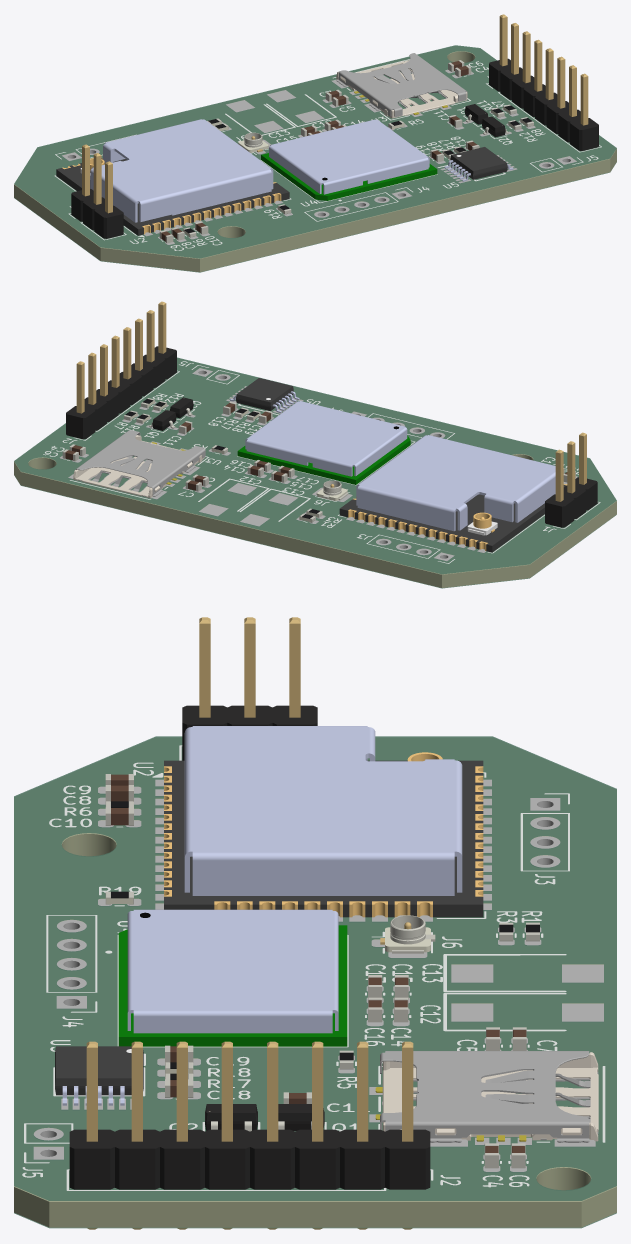
The model's file is Scouter_RFBoard.glb.
3 renders of one model, top to bottom at view 1: azimuth 30°, elevation 25°; view 2: azimuth 150°, elevation 25°; view 3: azimuth 270°, elevation 25°, orthographic. The views are drawn at different scales.
Visible parts, largest first — view 1: =>[0:1:1:27], =>[0:1:1:25], =>[0:1:1:9], =>[0:1:1:17], =>[0:1:1:13], =>[0:1:1:5], =>[0:1:1:22], =>[0:1:1:23], =>[0:1:1:19], =>[0:1:1:21], =>[0:1:1:26], =>[0:1:1:15] (+1 smaller); view 2: =>[0:1:1:27], =>[0:1:1:25], =>[0:1:1:9], =>[0:1:1:17], =>[0:1:1:13], =>[0:1:1:5], =>[0:1:1:22], =>[0:1:1:23], =>[0:1:1:19], =>[0:1:1:21], =>[0:1:1:26], =>[0:1:1:15]; view 3: =>[0:1:1:27], =>[0:1:1:25], =>[0:1:1:9], =>[0:1:1:17], =>[0:1:1:13], =>[0:1:1:5], =>[0:1:1:22], =>[0:1:1:23], =>[0:1:1:19], =>[0:1:1:21], =>[0:1:1:11] (×2), =>[0:1:1:15] (+1 smaller).
Part boxes in pixels (box(x1,y1,x2,y2)): =>[0:1:1:27]: box(14, 46, 616, 272); =>[0:1:1:25]: box(14, 45, 616, 258); =>[0:1:1:9]: box(56, 119, 289, 235); =>[0:1:1:17]: box(261, 119, 437, 200); =>[0:1:1:13]: box(489, 14, 598, 150); =>[0:1:1:5]: box(336, 53, 467, 118); =>[0:1:1:22]: box(62, 69, 576, 244); =>[0:1:1:23]: box(54, 59, 601, 250); =>[0:1:1:19]: box(71, 144, 123, 238); =>[0:1:1:21]: box(444, 147, 513, 181); =>[0:1:1:26]: box(14, 162, 616, 272); =>[0:1:1:15]: box(238, 132, 269, 152); =>[0:1:1:27]: box(14, 358, 616, 587); =>[0:1:1:25]: box(14, 357, 616, 574); =>[0:1:1:9]: box(339, 435, 567, 552); =>[0:1:1:17]: box(237, 401, 410, 484); =>[0:1:1:13]: box(66, 301, 176, 439); =>[0:1:1:5]: box(73, 430, 205, 498); =>[0:1:1:22]: box(60, 368, 577, 561); =>[0:1:1:23]: box(43, 361, 600, 563); =>[0:1:1:19]: box(545, 432, 597, 527); =>[0:1:1:21]: box(230, 378, 299, 413); =>[0:1:1:26]: box(14, 475, 616, 588); =>[0:1:1:15]: box(316, 480, 348, 500); =>[0:1:1:27]: box(14, 738, 616, 1227); =>[0:1:1:25]: box(14, 736, 616, 1200); =>[0:1:1:9]: box(164, 726, 483, 917); =>[0:1:1:17]: box(118, 909, 347, 1046); =>[0:1:1:13]: box(69, 1041, 430, 1229); =>[0:1:1:5]: box(375, 1051, 598, 1142); =>[0:1:1:22]: box(33, 779, 603, 1171); =>[0:1:1:23]: box(22, 745, 605, 1190); =>[0:1:1:19]: box(182, 617, 317, 760); =>[0:1:1:21]: box(55, 1046, 143, 1105); =>[0:1:1:11] (×2): box(205, 1104, 324, 1131); =>[0:1:1:15]: box(380, 915, 435, 953).
Size of the model in its own units: 0.062 by 0.0115 by 0.034.
